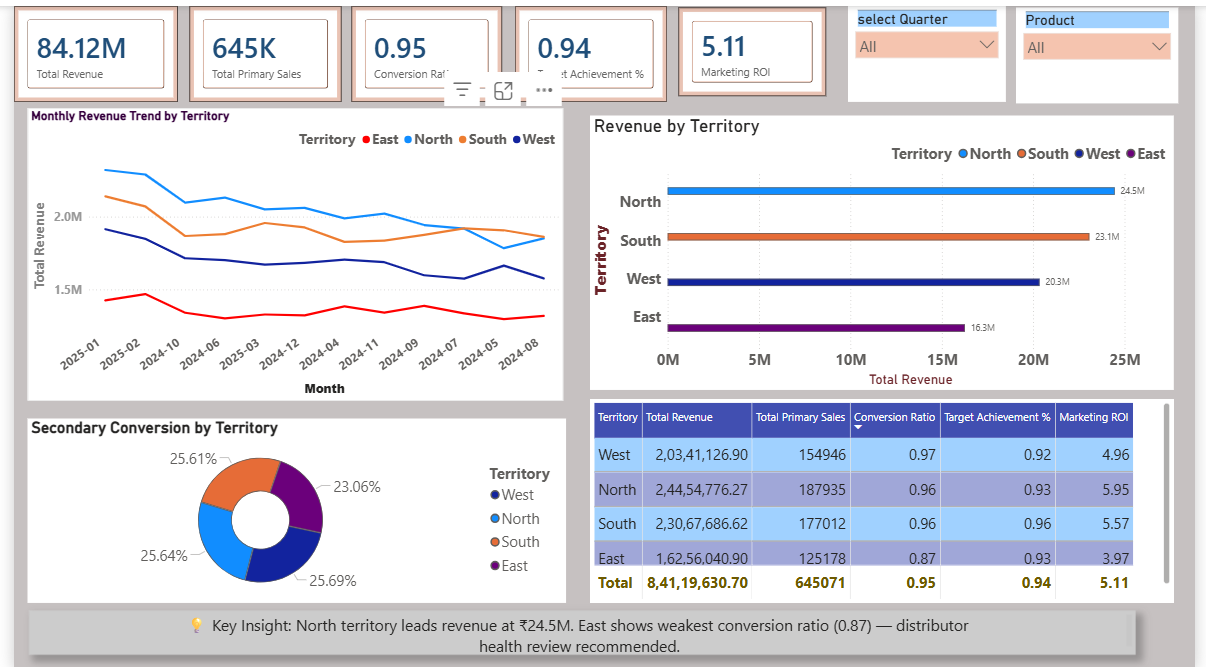

The page's visual inventory and layout, read from the dashboard file:
{"tool":"powerbi","page":{"name":"Executive Overview","canvas":[1600,900],"ordinal":0},"visuals":[{"type":"cardVisual","fields":{"Data":["pharma_sales.Conversion Ratio"]},"box":[458,0,204,130],"z":0},{"type":"cardVisual","fields":{"Data":["pharma_sales.Target Achievement %"]},"box":[680,0,206,130],"z":1000},{"type":"cardVisual","fields":{"Data":["pharma_sales.Marketing ROI"]},"box":[900,2,200,120],"z":2000},{"type":"cardVisual","fields":{"Data":["pharma_sales.Total Revenue"]},"box":[0,0,222,130],"z":3000},{"type":"lineChart","title":"Monthly Revenue Trend by Territory","fields":{"Category":["pharma_sales.Month"],"Y":["pharma_sales.Total Revenue"],"Series":["pharma_sales.Territory"]},"box":[18,138,726,396],"z":4000},{"type":"clusteredBarChart","title":" Revenue by Territory ","fields":{"Category":["pharma_sales.Territory"],"Y":["pharma_sales.Total Revenue"],"Series":["pharma_sales.Territory"]},"box":[780,148.9,791.1,372.2],"z":5000},{"type":"donutChart","title":"Secondary Conversion by Territory","fields":{"Category":["pharma_sales.Territory"],"Y":["pharma_sales.Conversion Ratio"]},"box":[18,560,730,250],"z":6000},{"type":"slicer","fields":{"Values":["pharma_sales.Quarter"]},"box":[1130,0,214,130],"z":7000},{"type":"slicer","fields":{"Values":["pharma_sales.Product"]},"box":[1358,2,220,130],"z":8000},{"type":"cardVisual","fields":{"Data":["pharma_sales.Total Primary Sales"]},"box":[238,0,206,130],"z":9000},{"type":"tableEx","fields":{"Values":["pharma_sales.Territory","pharma_sales.Total Revenue","pharma_sales.Total Primary Sales","pharma_sales.Conversion Ratio","pharma_sales.Target Achievement %","pharma_sales.Marketing ROI"]},"box":[780,533.3,791.1,275.6],"z":10000},{"type":"textbox","box":[20,820,1500,60],"z":11000}]}

Visuals, with their boxes in screenshot pixels (x1, y1, x2, y2), scaled from the page's 1600x900 canvas onto the 1206x667 screenshot:
cardVisual - pharma_sales.Conversion Ratio: detection(345, 0, 499, 96)
cardVisual - pharma_sales.Target Achievement %: detection(513, 0, 668, 96)
cardVisual - pharma_sales.Marketing ROI: detection(678, 1, 829, 90)
cardVisual - pharma_sales.Total Revenue: detection(0, 0, 167, 96)
"Monthly Revenue Trend by Territory" lineChart: detection(14, 102, 561, 396)
" Revenue by Territory " clusteredBarChart: detection(588, 110, 1184, 386)
"Secondary Conversion by Territory" donutChart: detection(14, 415, 564, 600)
slicer - pharma_sales.Quarter: detection(852, 0, 1013, 96)
slicer - pharma_sales.Product: detection(1024, 1, 1189, 98)
cardVisual - pharma_sales.Total Primary Sales: detection(179, 0, 335, 96)
tableEx - pharma_sales.Territory x pharma_sales.Total Revenue: detection(588, 395, 1184, 599)
textbox: detection(15, 608, 1146, 652)
